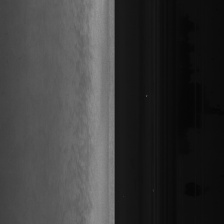silk_spot: (68, 32, 100, 162)
